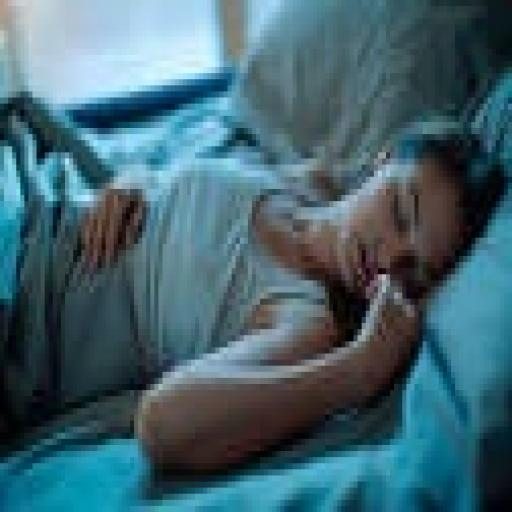sleeping: (0, 0, 508, 494)
